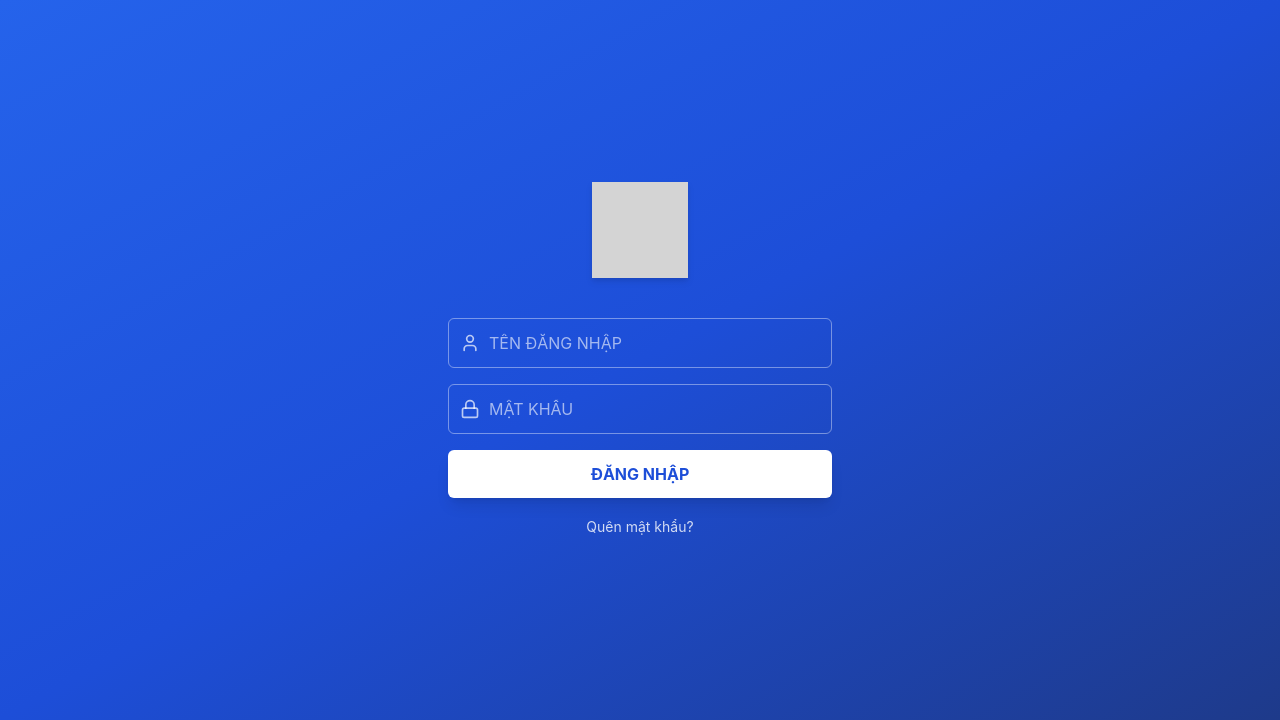
Test: Auth Module › LoginPage › 7. Login thất bại -> hiện error message
Type "admin" into the field with placeholder "TÊN ĐĂNG NHẬP" at (640, 343), box [448, 318, 832, 368]
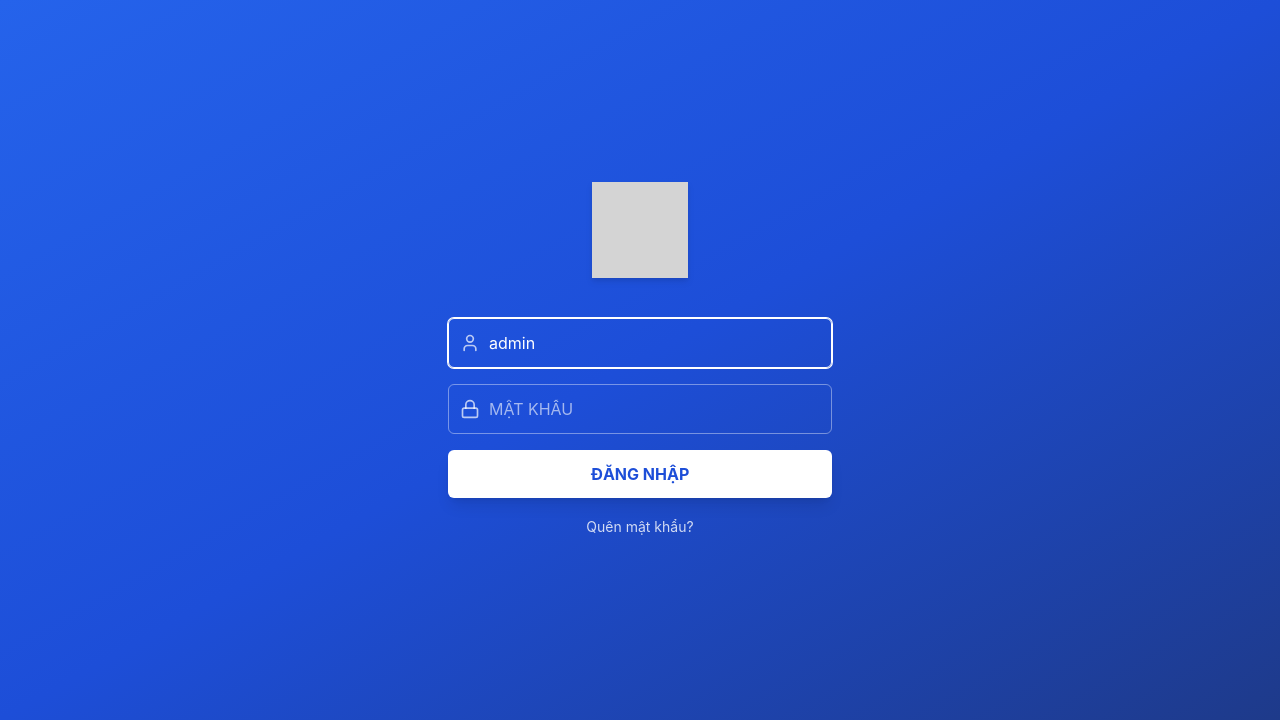
Type "wrong" into the password field with placeholder "MẬT KHẨU" at (640, 409), box [448, 384, 832, 434]
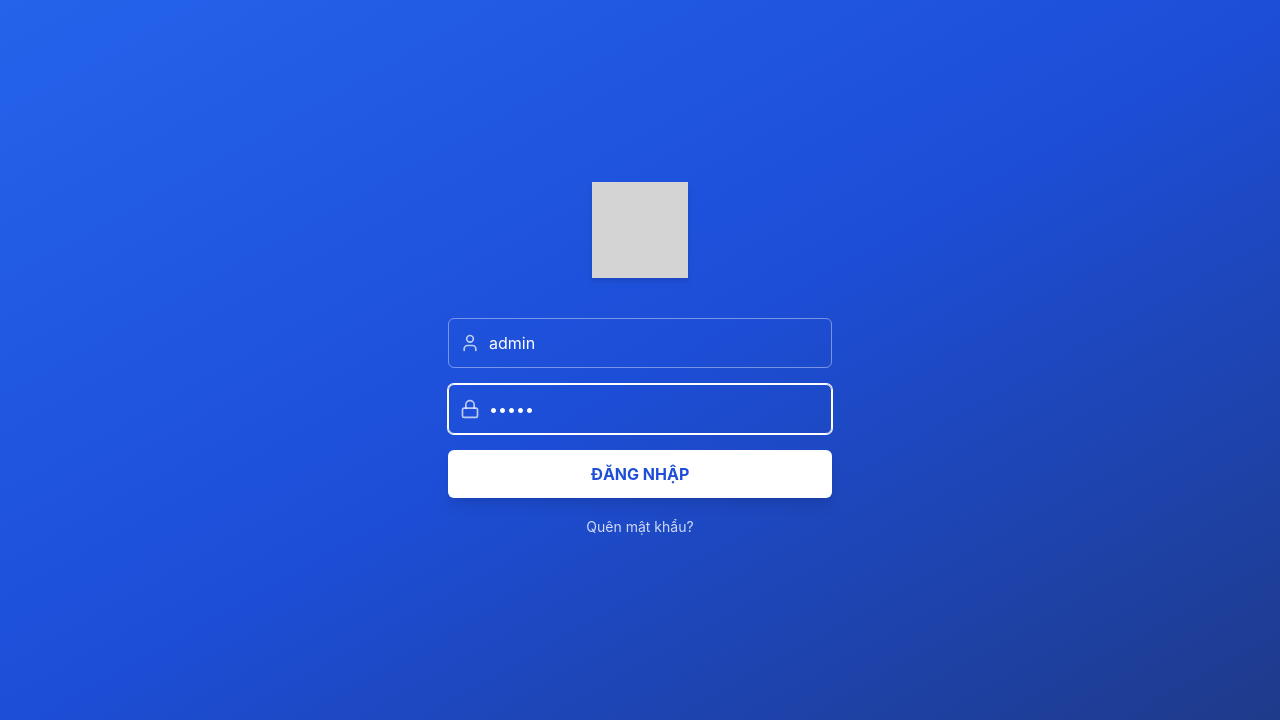
Click the button "ĐĂNG NHẬP" at (640, 474), box [448, 450, 832, 498]
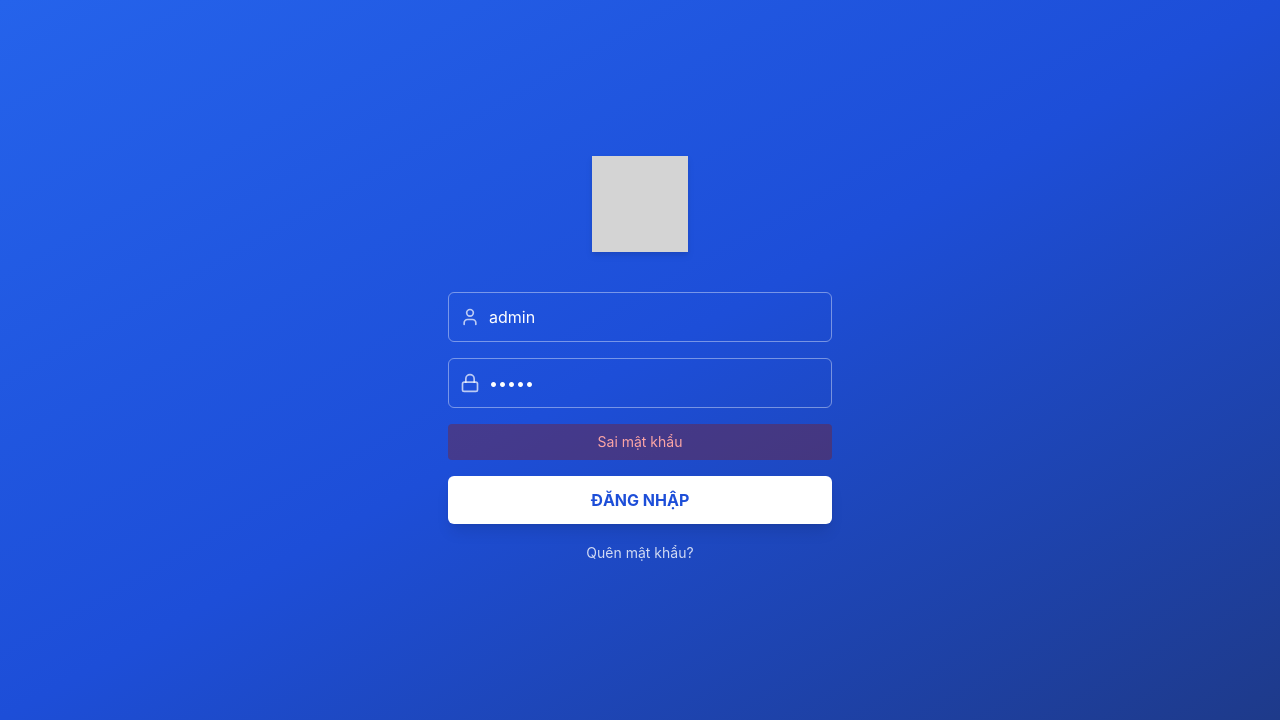
Expected: the text "Sai mật khẩu" is shown, [448, 424, 832, 460]
